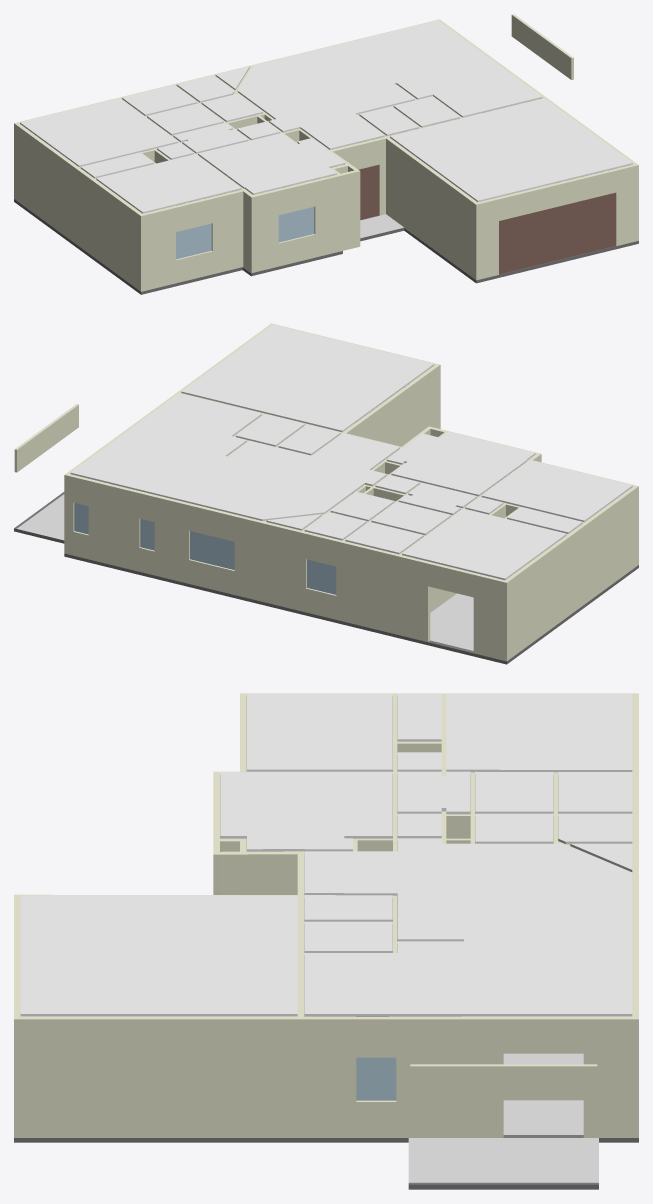
3 renders of one model, top to bottom at view 1: azimuth 30°, elevation 25°; view 2: azimuth 150°, elevation 25°; view 3: azimuth 270°, elevation 25°, orthographic. The views are drawn at different scales.
Parts seen in each view (by area): view 1: Ceiling, Walls, DoorLeaves, Floor, Glazing, RoomFloor_r21; view 2: Ceiling, Walls, Glazing, Floor, RoomFloor_r1, RoomFloor_r22; view 3: Ceiling, Walls, RoomFloor_r22, RoomFloor_r11, Floor, Glazing.
Part boxes in pixels (x1,y1,x2,y2): Ceiling: (20,20,632,213); Walls: (14,14,638,291); DoorLeaves: (359,165,615,274); Floor: (14,199,638,294); Glazing: (176,207,314,259); RoomFloor_r21: (360,214,434,249); Ceiling: (70,324,632,579); Walls: (14,323,638,661); Glazing: (74,503,336,594); Floor: (14,492,638,664); RoomFloor_r1: (430,593,473,650); RoomFloor_r22: (17,494,64,540); Ceiling: (20,694,632,1016); Walls: (14,693,638,1137); RoomFloor_r22: (408,1138,598,1182); RoomFloor_r11: (503,1053,583,1134); Floor: (14,896,638,1189); Glazing: (356,1057,396,1100).
Bounding box in the file's own units: 20.22 × 3.18 × 14.33.
